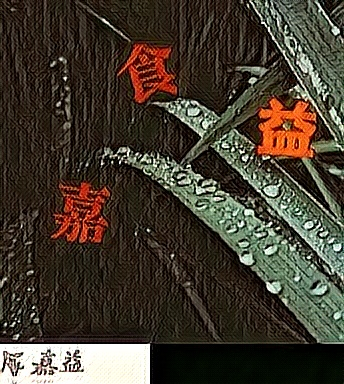BCCE: (50, 180, 112, 244)
CAB3: (117, 42, 179, 106)
D2E6: (254, 96, 316, 160)
